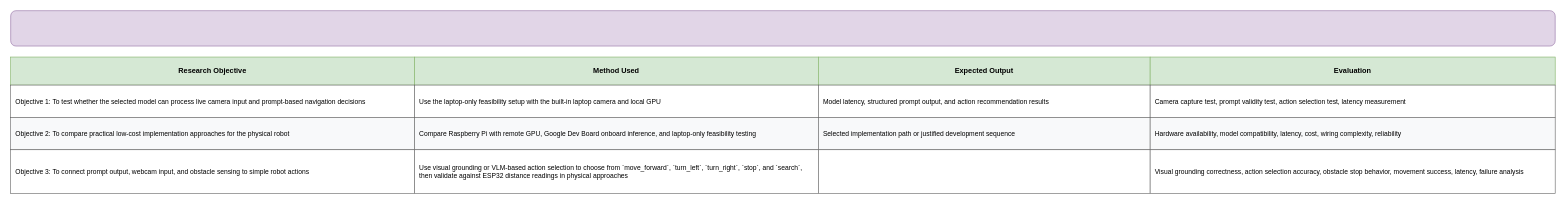
Some shapes in this 1566 by 204 pixel diagram are drawn without their labels. The centre of each missing label's shape, as x and y in pixels:
Table 3.1: Methodology Alignment with Research Objectives: point (782, 28)
Validated action command sent to the ESP32 motor-control layer: point (984, 171)
